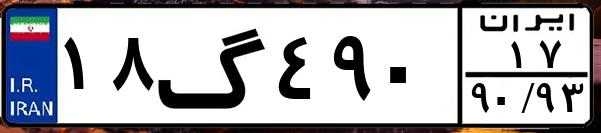0: (385, 28, 445, 110), (495, 70, 520, 125)
1: (57, 26, 110, 100), (508, 27, 537, 80)
3: (560, 70, 590, 125)
4: (270, 28, 330, 110)
7: (537, 27, 568, 80)
8: (110, 28, 156, 98)
9: (330, 28, 385, 110), (470, 70, 495, 125), (535, 70, 560, 125)
گ: (156, 12, 270, 120)
